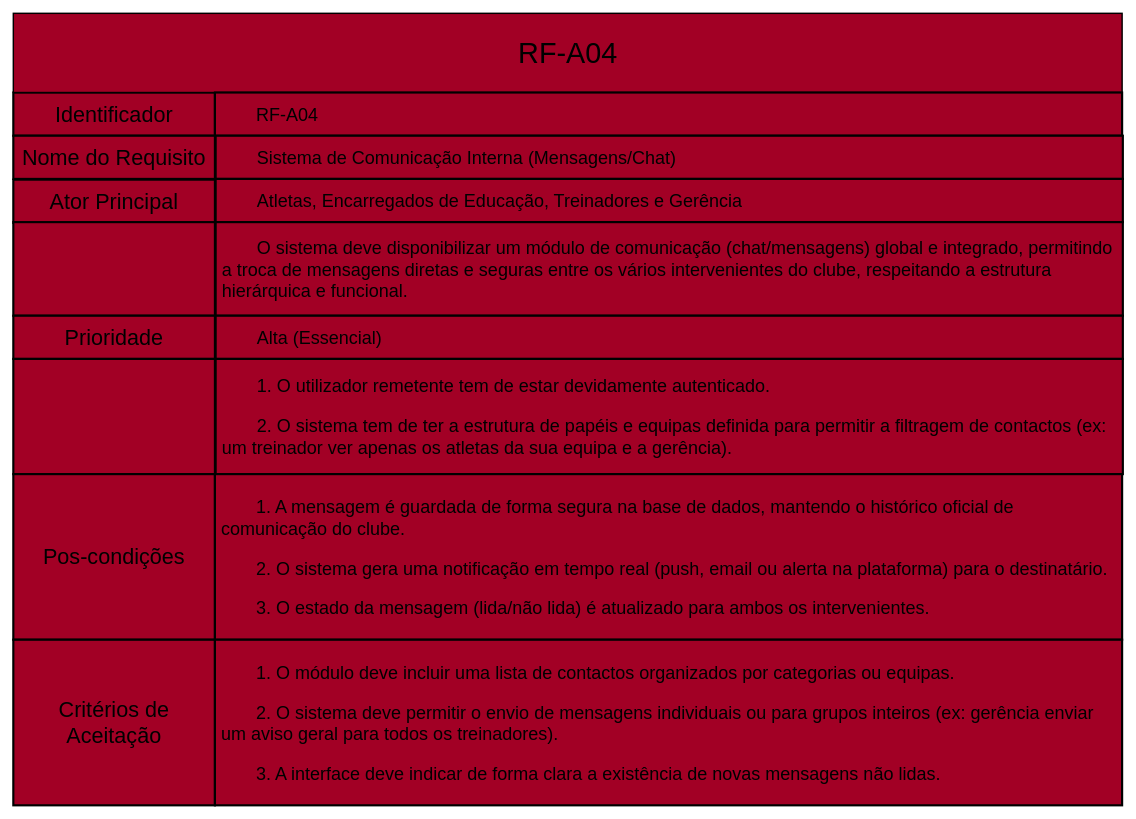
Image size: 1136x819. Some labels were removed from this diagram. The box of each missing label's shape, as (x1, y1, x2, y2) in pixels:
Descrição: (12, 221, 216, 316)
Pré-condições: (12, 357, 216, 475)
